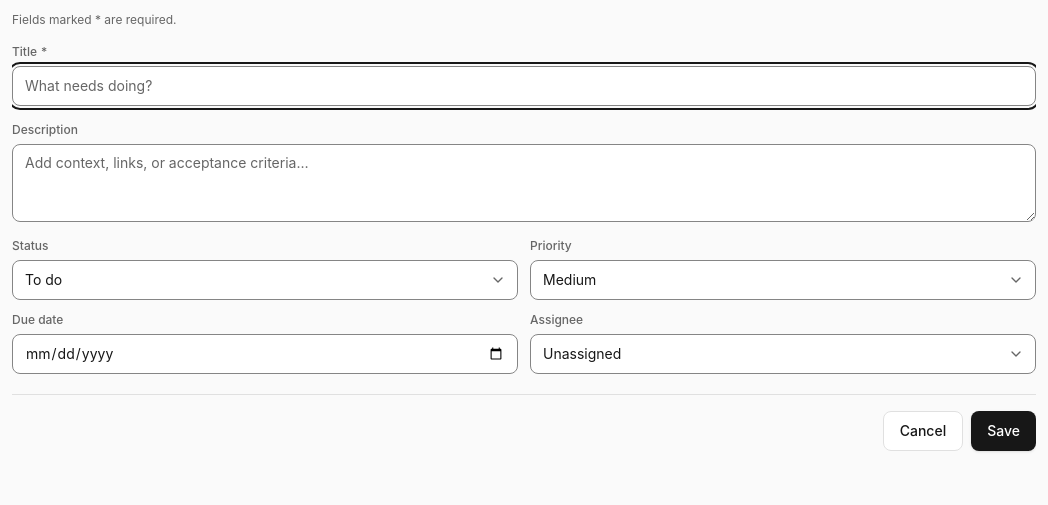
it: TaskForm › shows non-field errors at form level
The width and height of the screenshot is (1048, 505).
In the field labelled "Title": (524,86) [12,66,1036,106], type "Edit"
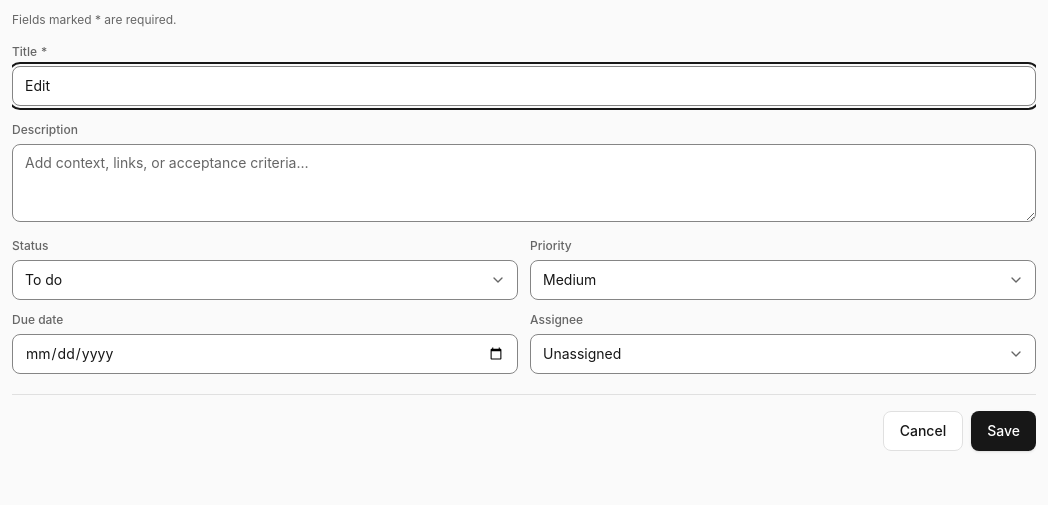
Click the button "Save": (1004,431) [971,411,1036,451]
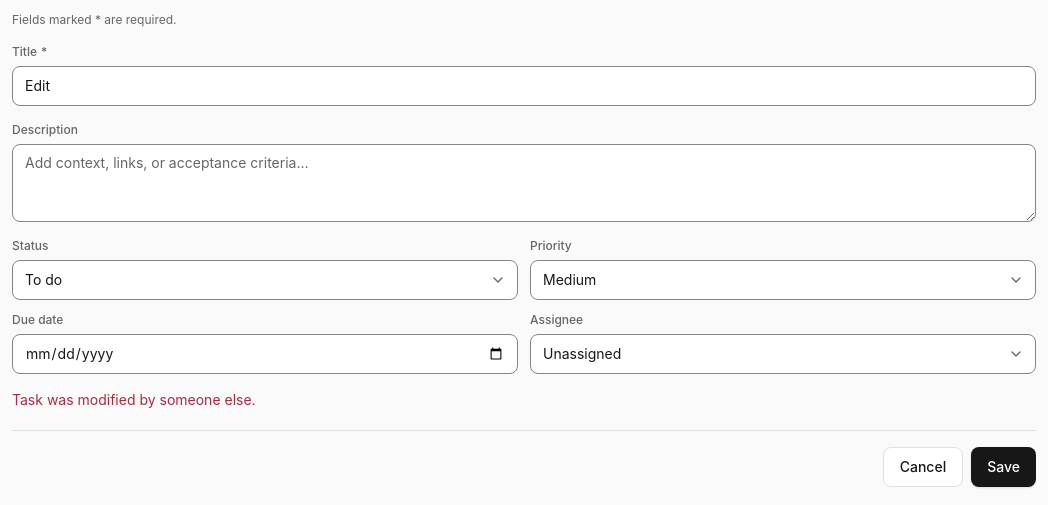
Expected: the message reads "Task was modified by someone else.", [12,391,256,408]
